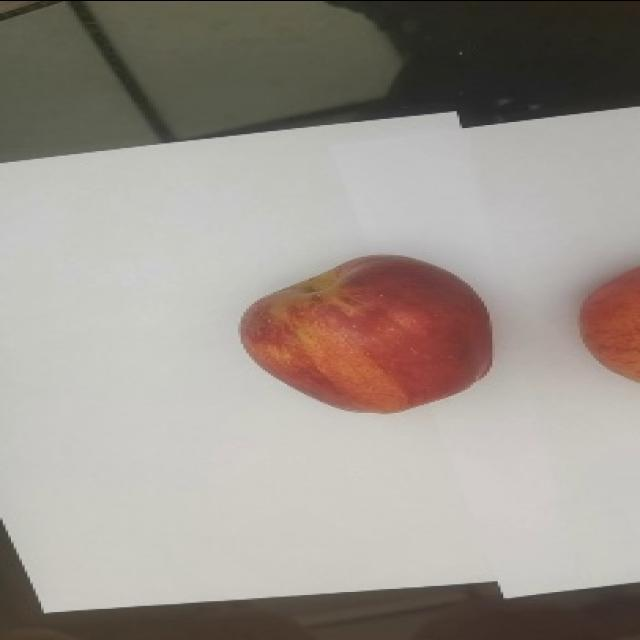Apple: (241, 249, 498, 410), (574, 261, 640, 385)
